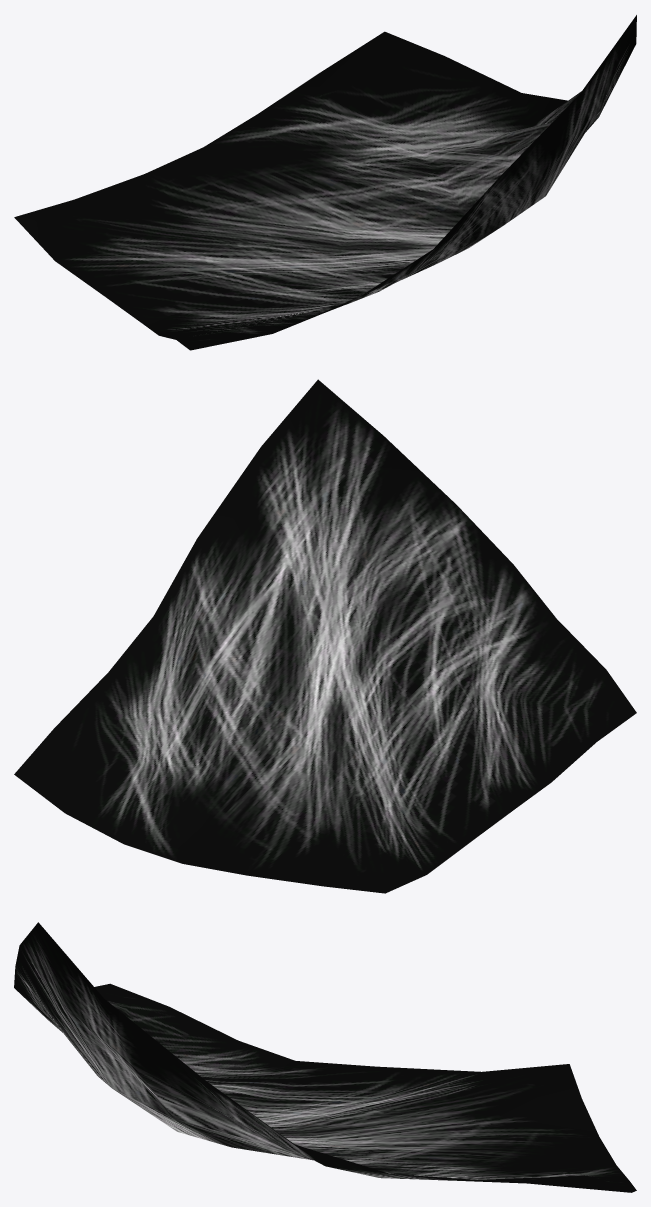
Rendered from SWORDLIGHT20_PS-AREA01_CORNERWEB08.fbx.
3 views of the same model, one above another, from view 1: azimuth 30°, elevation 25°; view 2: azimuth 150°, elevation 25°; view 3: azimuth 270°, elevation 25° (orthographic). The views are drawn at different scales.
Parts seen in each view (by area): view 1: SWORDLIGHT20_PS-AREA01_CORNERWEB08; view 2: SWORDLIGHT20_PS-AREA01_CORNERWEB08; view 3: SWORDLIGHT20_PS-AREA01_CORNERWEB08.
Boxes of the visible parts, <box> form: SWORDLIGHT20_PS-AREA01_CORNERWEB08: <box>14,15,636,350</box>; SWORDLIGHT20_PS-AREA01_CORNERWEB08: <box>14,379,636,893</box>; SWORDLIGHT20_PS-AREA01_CORNERWEB08: <box>14,922,636,1192</box>.
Size of the model in its own units: 65674 by 43171 by 76484.
1 material, 1 textured.
